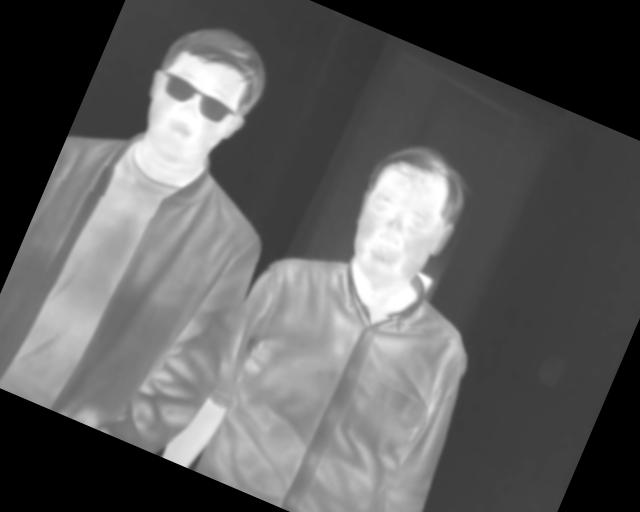face: (122, 9, 279, 186), (331, 129, 482, 304)
